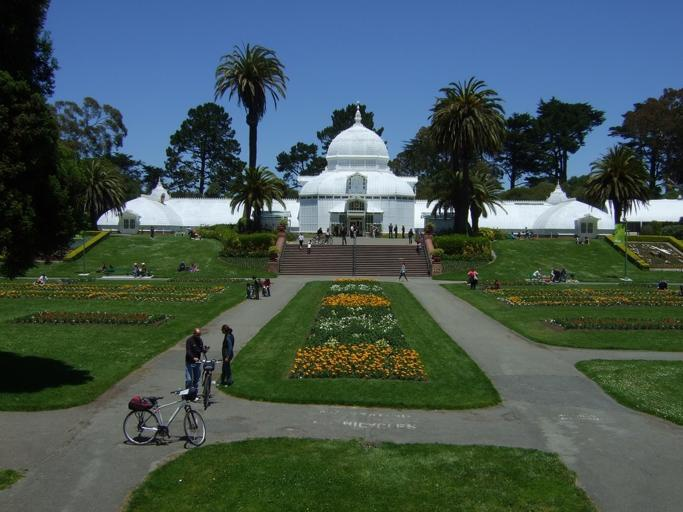non-vehicle: (123, 383, 206, 446), (193, 358, 223, 409)
